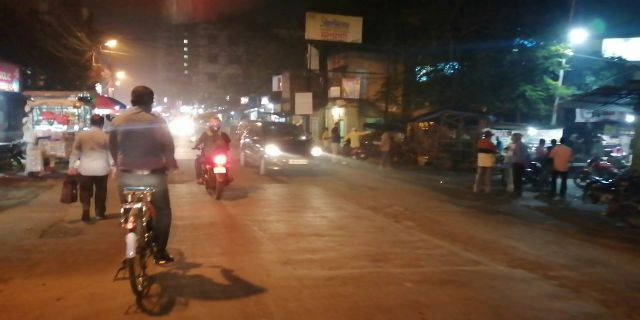Car: (248, 121, 331, 179)
Cycle: (102, 85, 175, 302)
Motorbike: (196, 116, 236, 200)
